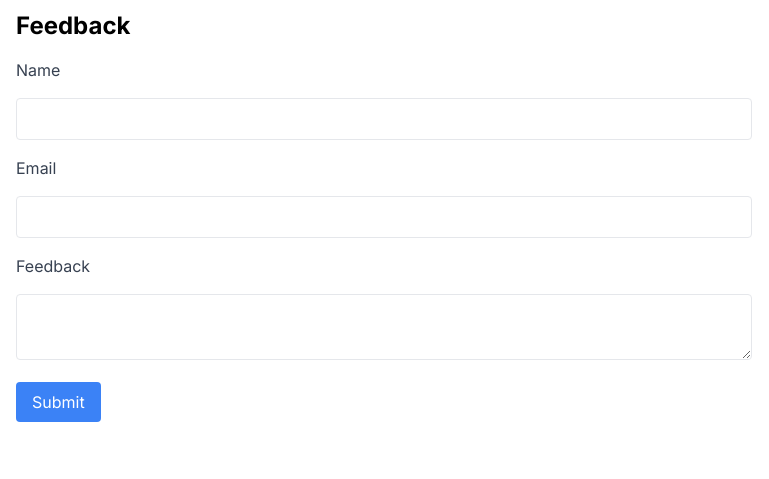
FeedbackPage Component › should submit form and show success message
In the field labelled "Name": (384, 119) [16,98,752,140], type "John Doe"
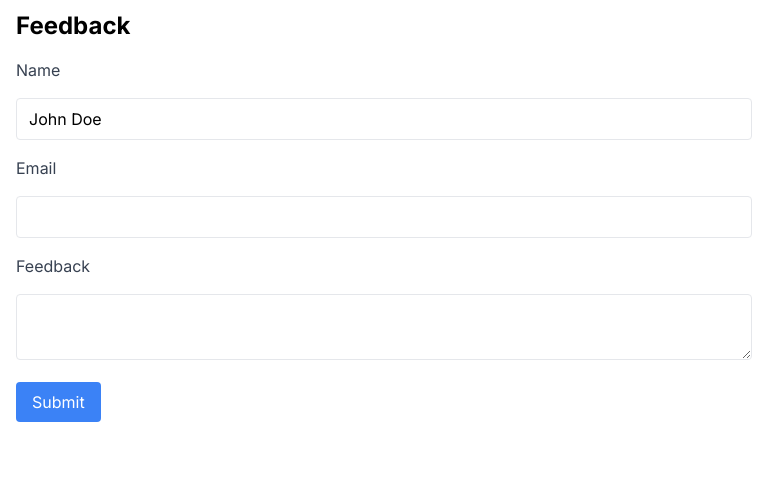
In the field labelled "Email": (384, 217) [16,196,752,238], type "john.doe@example.com"
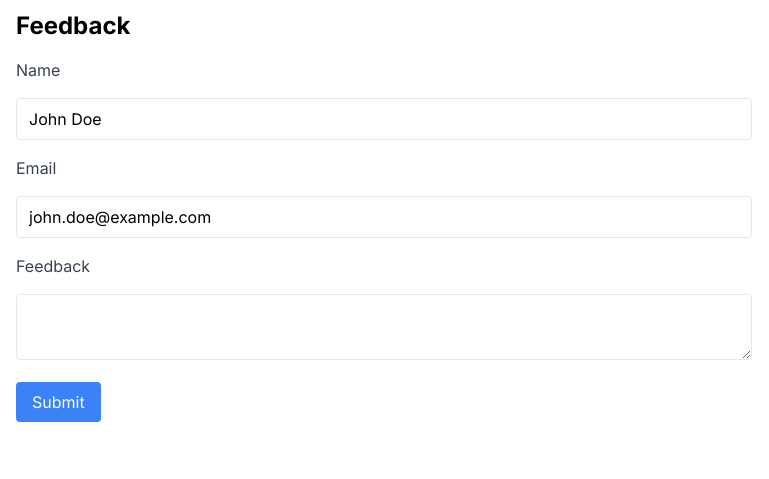
In the text box labelled "Feedback": (384, 327) [16,294,752,360], type "Great job!"
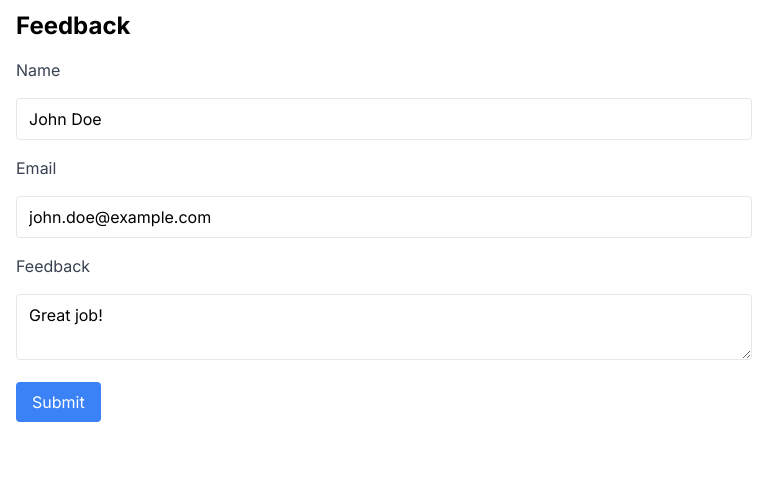
Click the button "Submit": (58, 402) [16,382,101,422]
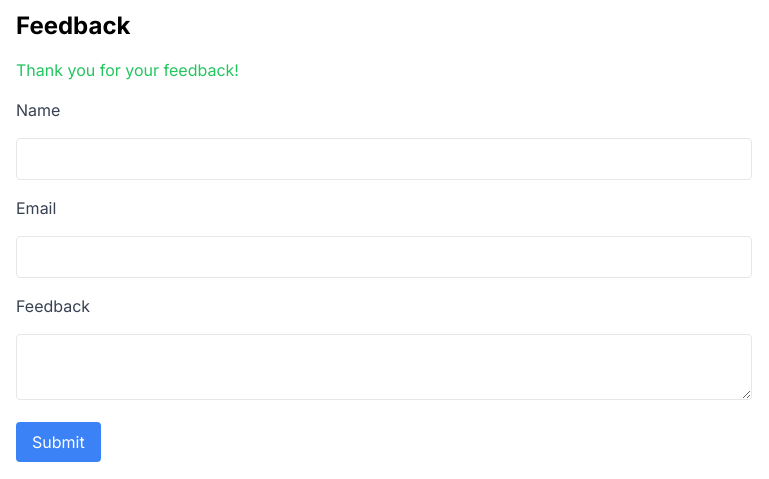
Now the text "Thank you for your feedback!" is shown, box [16,60,239,80]
Now the field labelled "Name" is empty, box [16,138,752,180]
Now the field labelled "Email" is empty, box [16,236,752,278]
